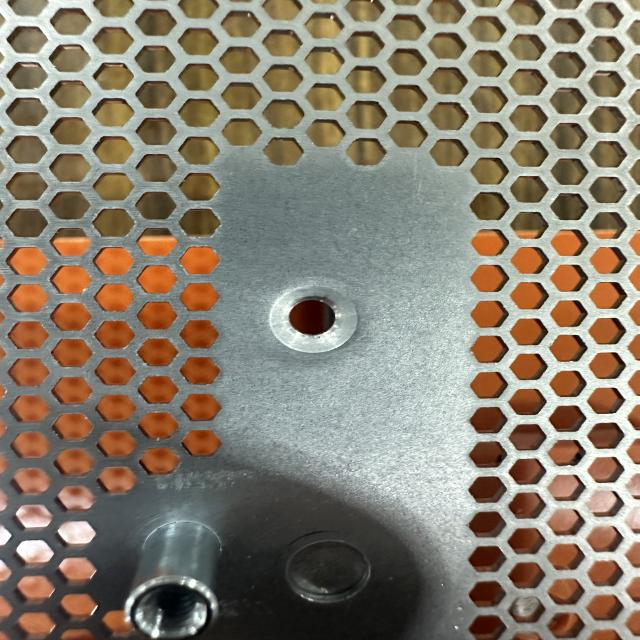Missing screw: (254, 277, 374, 360)
